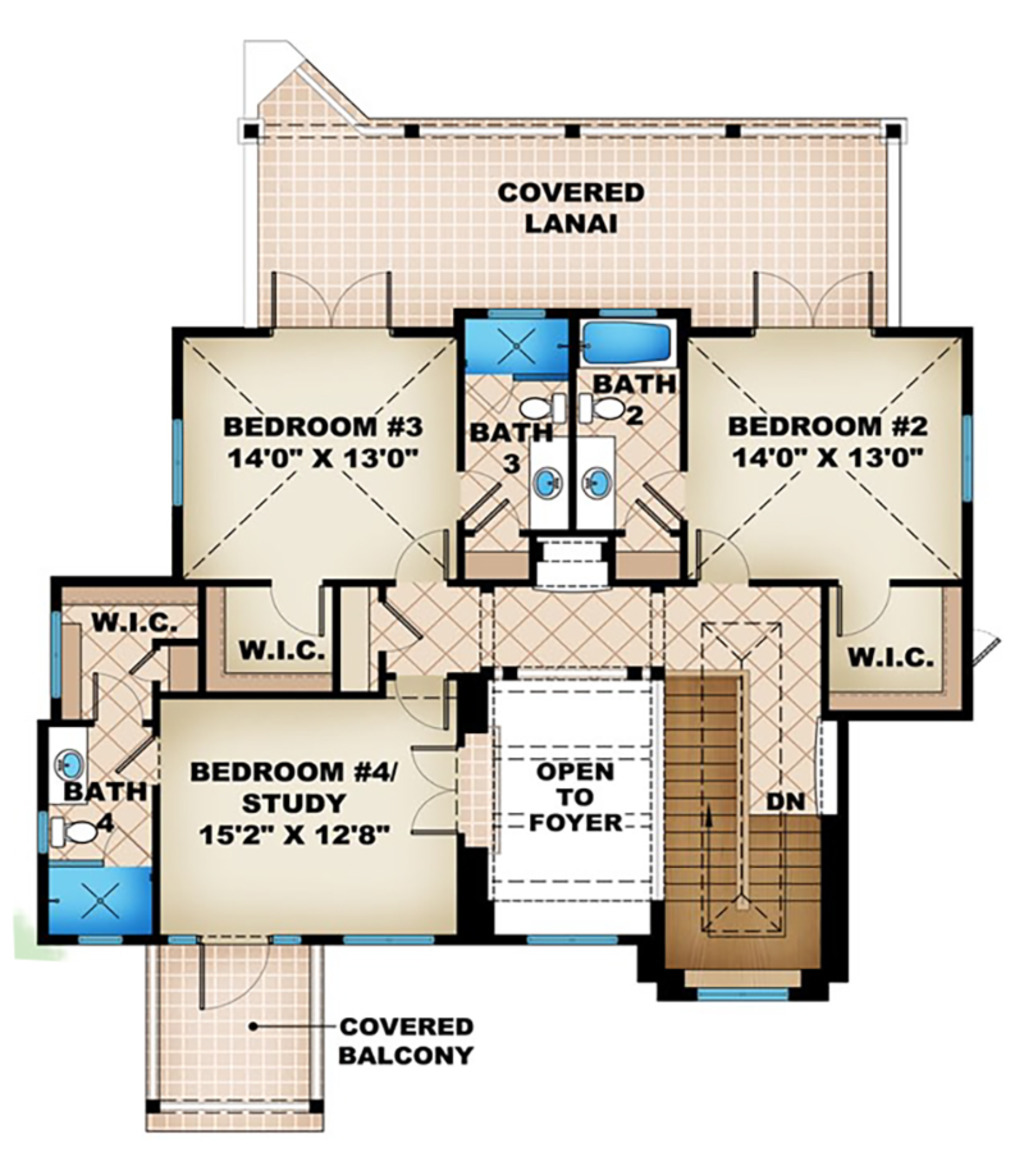door: (270, 264, 399, 340), (749, 270, 877, 338), (195, 935, 277, 1010), (406, 740, 461, 841), (265, 574, 327, 638), (834, 574, 894, 640), (388, 530, 451, 592), (395, 668, 453, 734), (688, 529, 753, 585), (88, 673, 142, 731), (621, 495, 682, 541), (637, 470, 690, 515)
large_sink: (43, 813, 111, 854), (575, 392, 631, 431), (516, 391, 566, 431)
small_sink: (567, 435, 623, 542), (523, 437, 577, 520), (50, 725, 89, 807)
stairs: (661, 665, 827, 979)
tub: (575, 319, 687, 375)
windows: (164, 409, 193, 514), (953, 413, 979, 510), (326, 932, 439, 953), (43, 603, 67, 698), (695, 986, 790, 1006), (521, 932, 621, 948)
